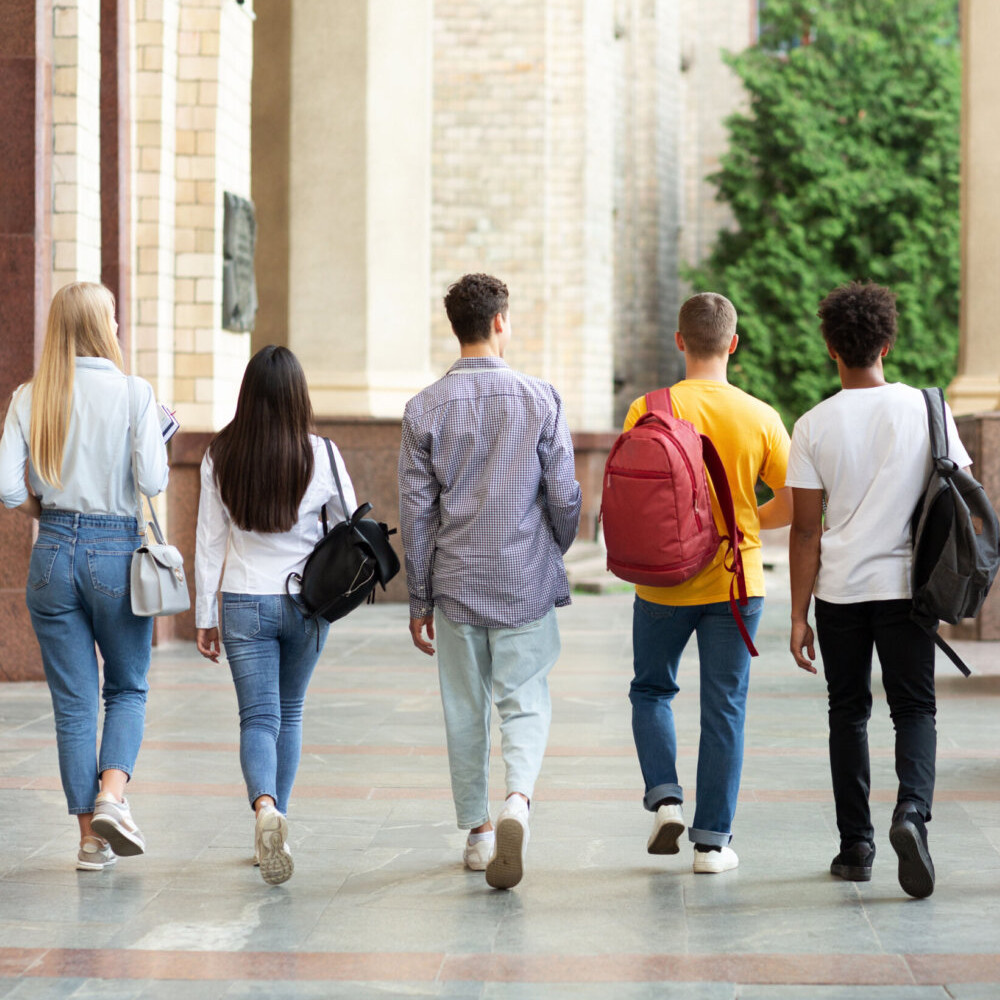human: (790, 282, 1000, 895), (395, 275, 584, 894), (2, 281, 191, 874), (606, 290, 797, 875), (190, 345, 362, 885)
